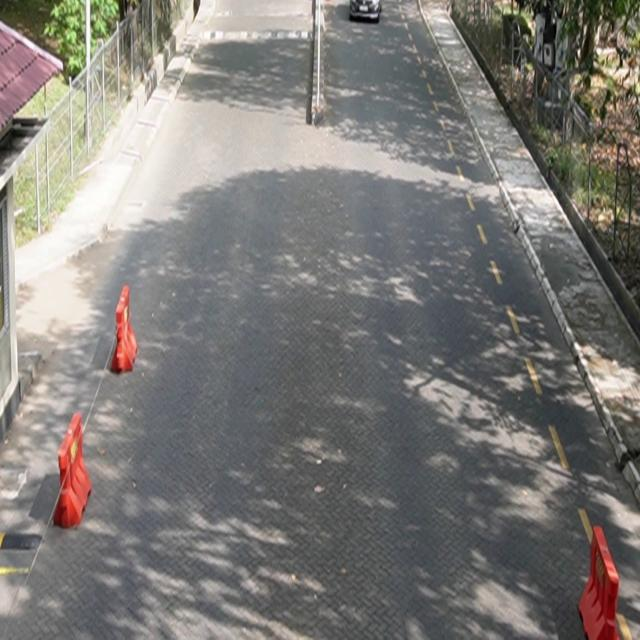car: (350, 1, 383, 23)
